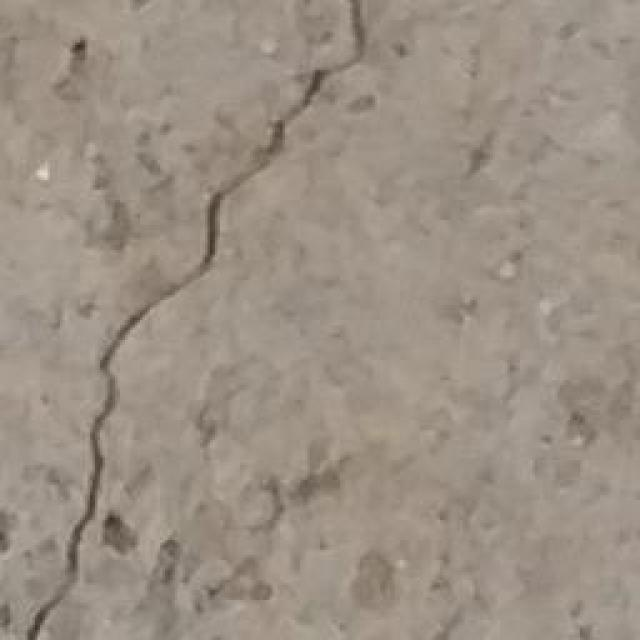Longitudinal: (26, 0, 378, 640)
